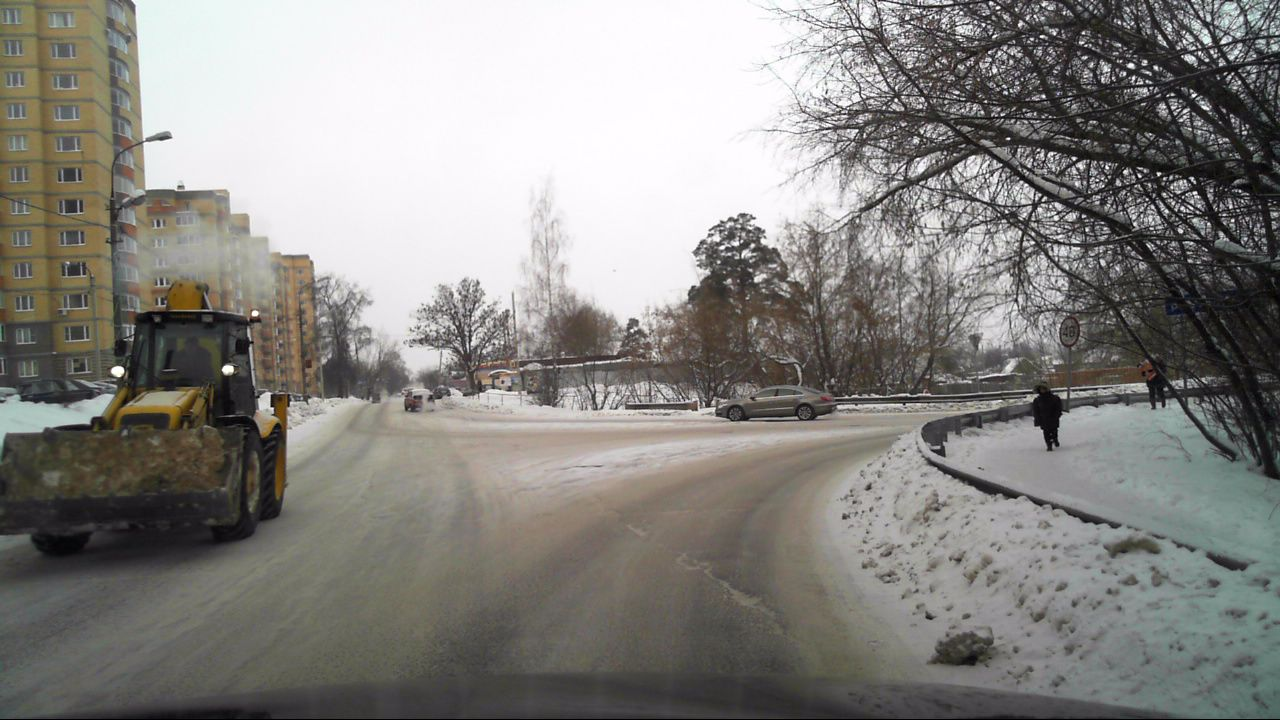speed_warning_40: (1058, 315, 1080, 347)
